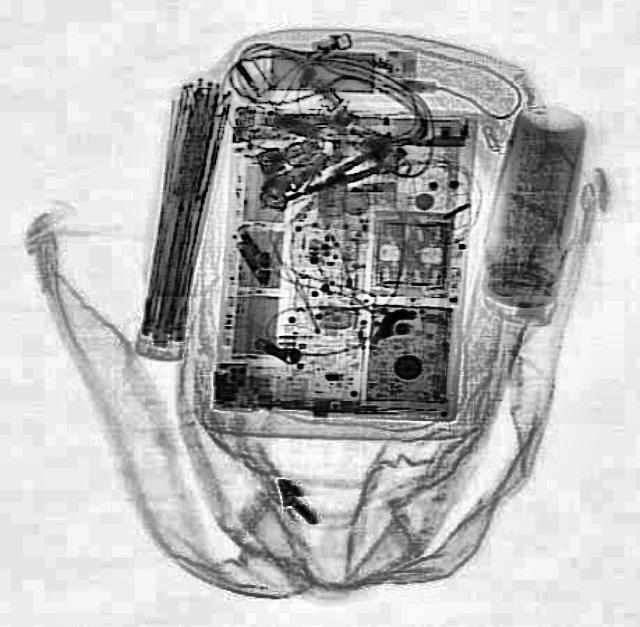Pliers: (297, 147, 383, 201)
